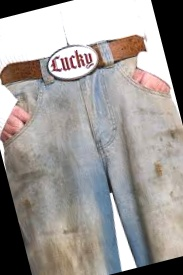earth: (31, 240, 77, 275), (14, 197, 36, 222), (152, 157, 166, 178), (167, 125, 182, 143)
